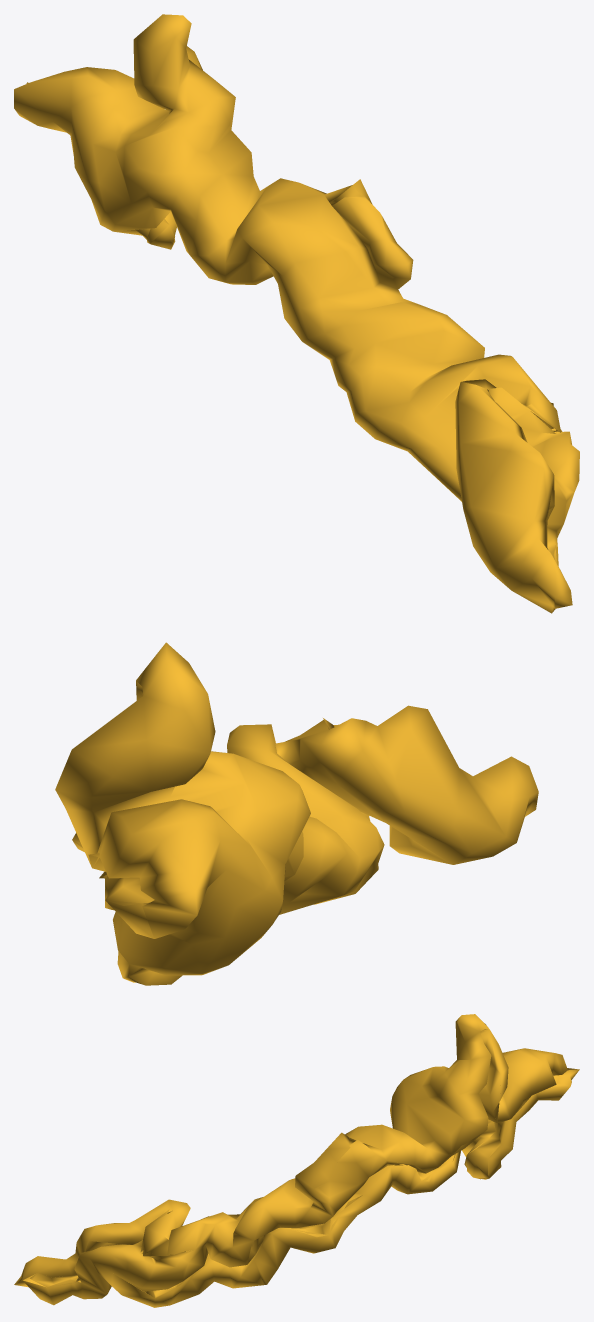
Rendered from nervoso-superior-temporal-sulcus-l.glb.
The picture shows the model from 3 angles, top to bottom: view 1: azimuth 30°, elevation 25°; view 2: azimuth 150°, elevation 25°; view 3: azimuth 270°, elevation 25°; orthographic projection. The views are drawn at different scales.
Visible parts, largest first — view 1: Superior temporal sulcus.l; view 2: Superior temporal sulcus.l; view 3: Superior temporal sulcus.l.
Part boxes in pixels (bbox=[...]): Superior temporal sulcus.l: bbox=[14, 14, 579, 613]; Superior temporal sulcus.l: bbox=[55, 642, 538, 985]; Superior temporal sulcus.l: bbox=[14, 1014, 579, 1307].
Bounding box in the file's own units: 0.0354 × 0.0515 × 0.0986.
